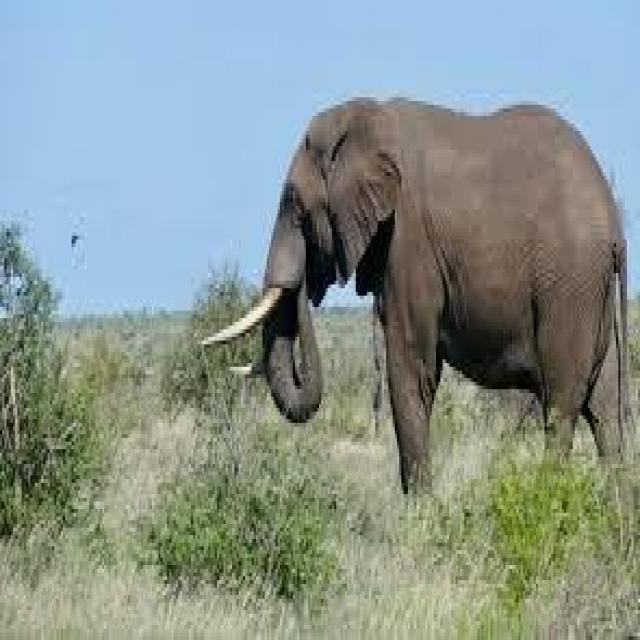Elephant: (253, 93, 622, 476)
